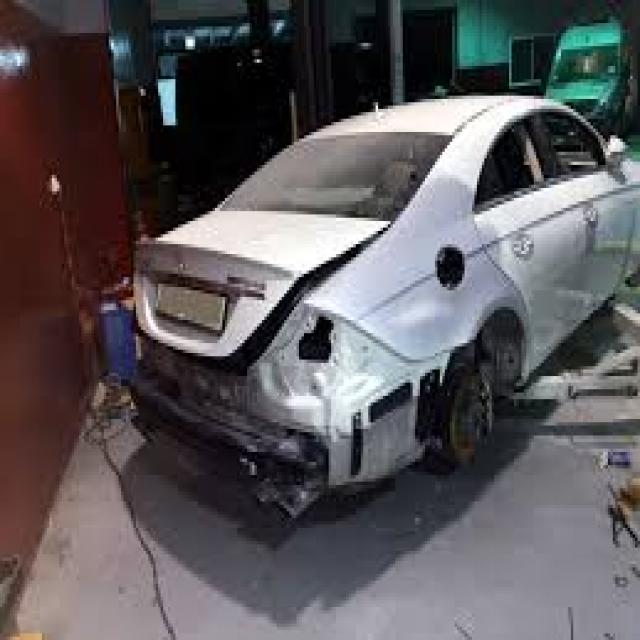moderate: (117, 173, 494, 556)
